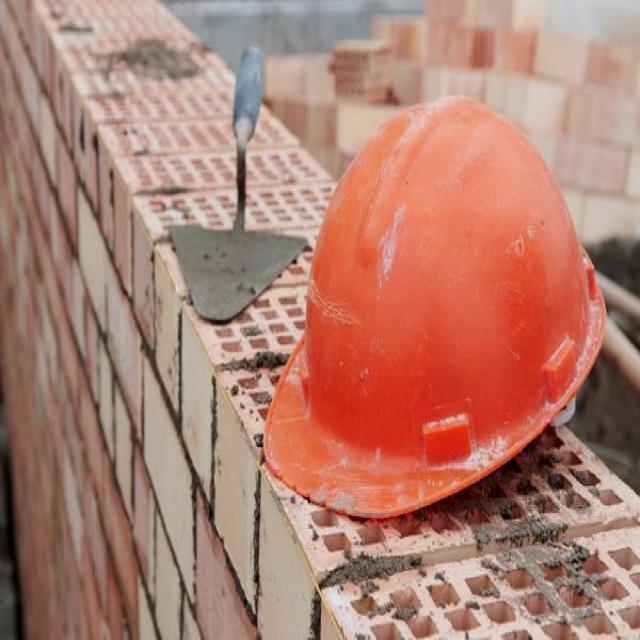head_helmet: (256, 100, 604, 529)
